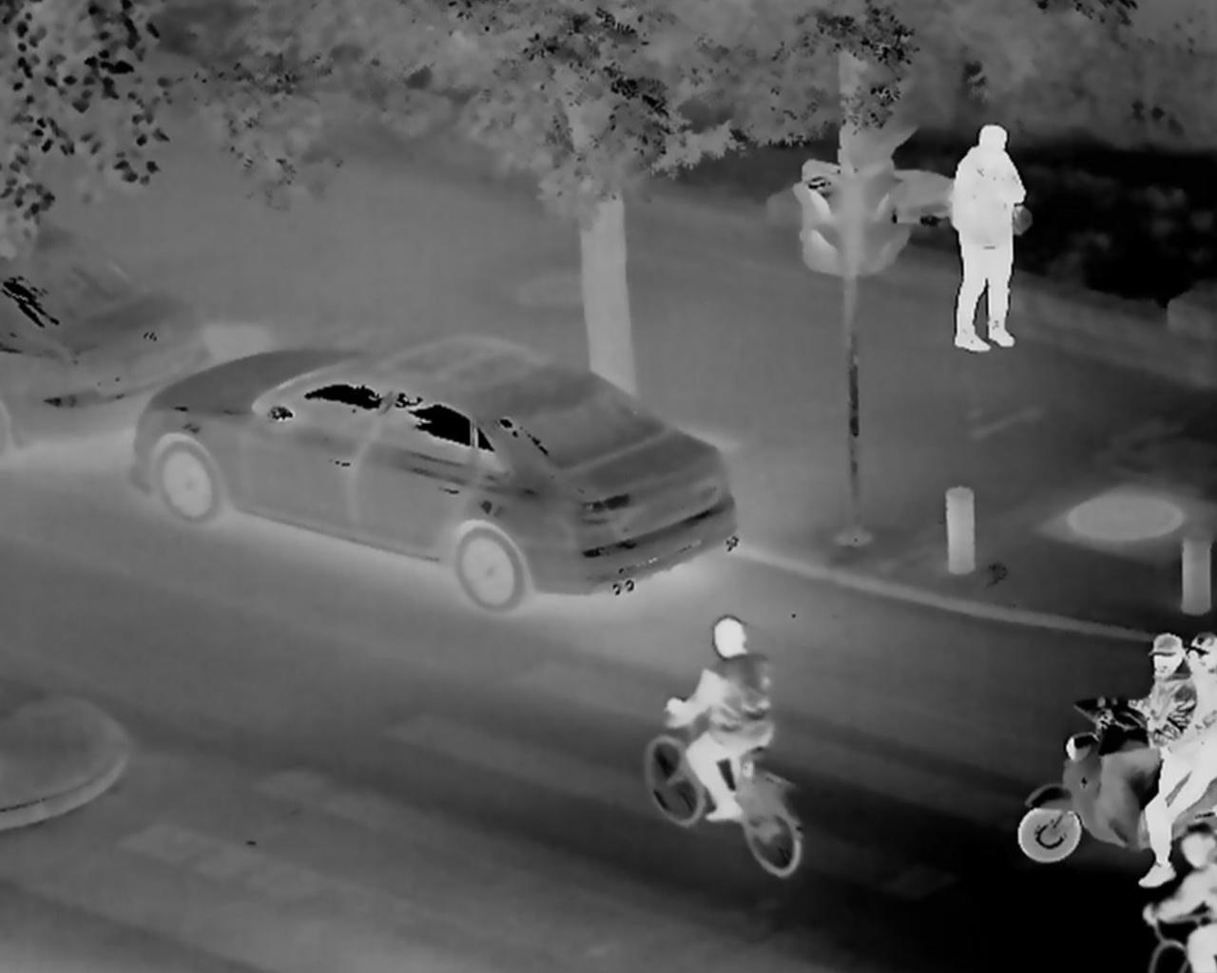person: (664, 604, 779, 835), (956, 105, 1034, 362), (1120, 620, 1186, 886), (1153, 827, 1217, 953), (1181, 640, 1217, 810)
